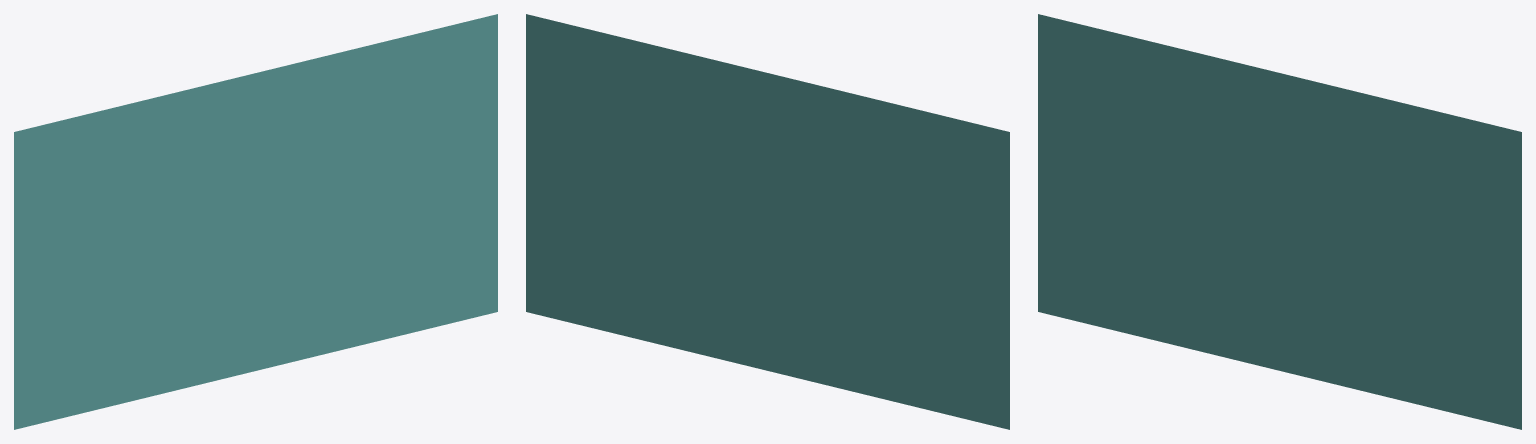
Rendered from Itr_Wall_Color_08.FBX.
3 renders of one model, left to right at view 1: azimuth 30°, elevation 25°; view 2: azimuth 150°, elevation 25°; view 3: azimuth 330°, elevation 25°, orthographic.
Parts seen in each view (by area): view 1: Itr_Wall_Color_08; view 2: Itr_Wall_Color_08; view 3: Itr_Wall_Color_08.
Boxes of the visible parts, x1,y1,x2,y2 form: Itr_Wall_Color_08: [14, 14, 497, 429]; Itr_Wall_Color_08: [526, 14, 1009, 429]; Itr_Wall_Color_08: [1038, 14, 1521, 429].
Bounding box in the file's own units: 118 × 69.49 × 3.05e-05.
